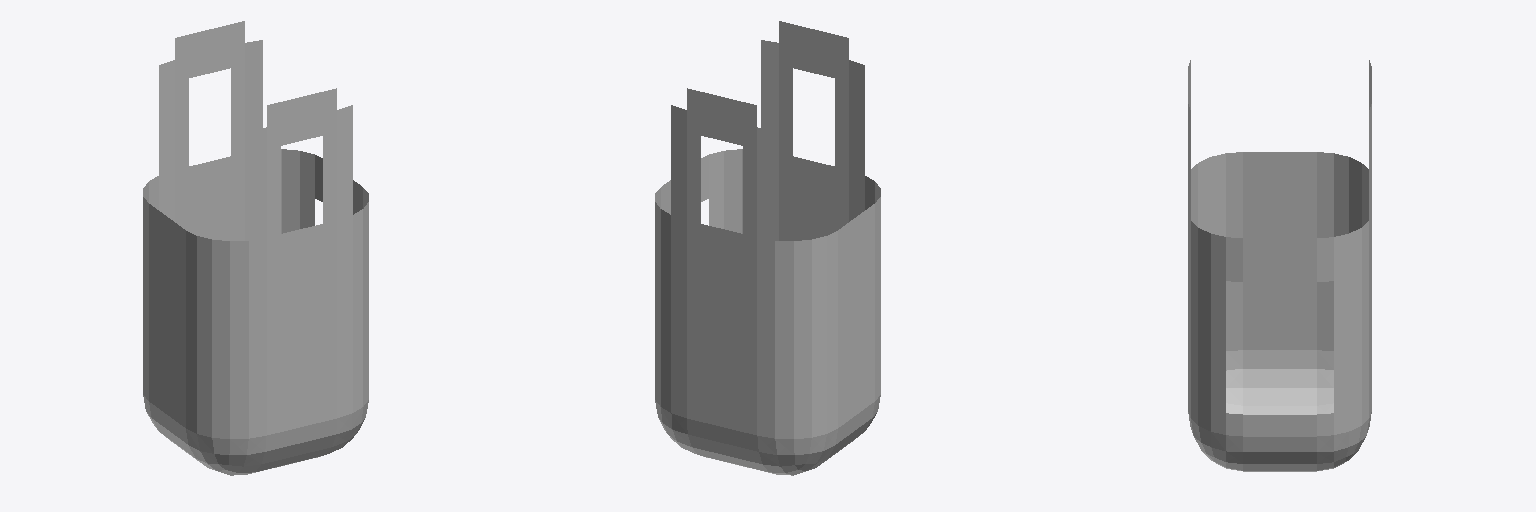
File: bag-hole-1.obj
3 renders of one model, left to right at view 1: azimuth 30°, elevation 25°; view 2: azimuth 150°, elevation 25°; view 3: azimuth 270°, elevation 25°, orthographic.
Visible parts, largest first — view 1: Cube-0-1.726_Cube.863; view 2: Cube-0-1.726_Cube.863; view 3: Cube-0-1.726_Cube.863.
Boxes of the visible parts, <box> form: Cube-0-1.726_Cube.863: <box>143,21,368,475</box>; Cube-0-1.726_Cube.863: <box>655,21,880,475</box>; Cube-0-1.726_Cube.863: <box>1188,60,1371,471</box>.
Bounding box in the file's own units: 2 × 4.16 × 1.8.